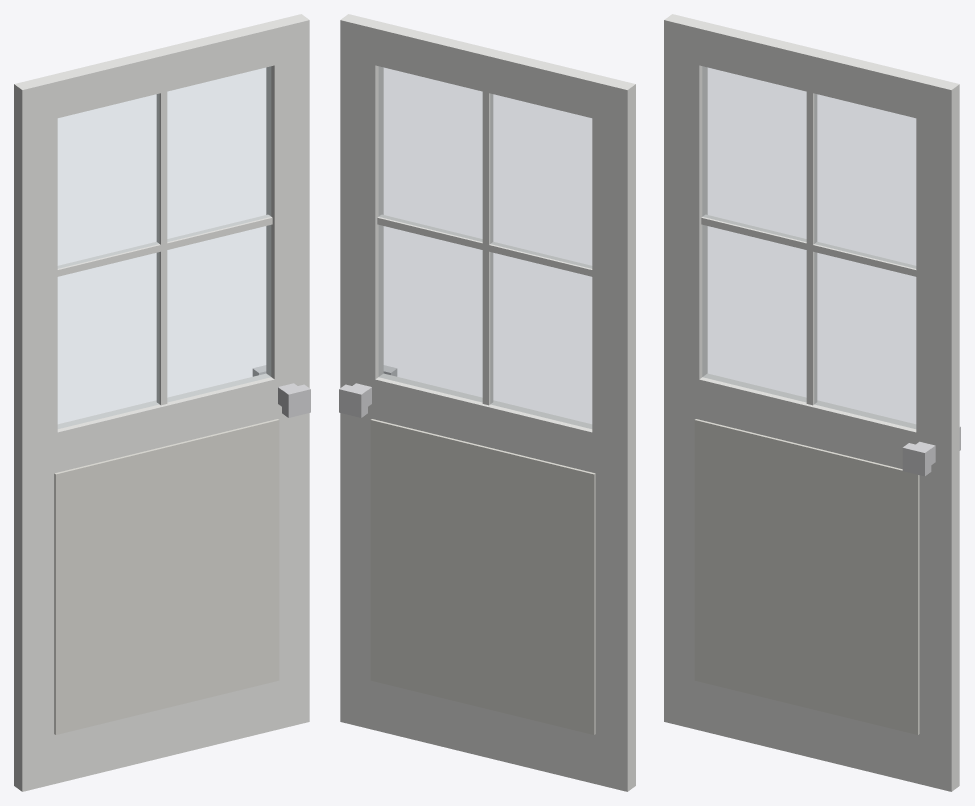
Rendered from mlo_door_half_glass.glb.
The picture shows the model from 3 angles, left to right: view 1: azimuth 30°, elevation 25°; view 2: azimuth 150°, elevation 25°; view 3: azimuth 330°, elevation 25°; orthographic projection.
Visible parts, largest first — view 1: Door_Half_Glass; view 2: Door_Half_Glass; view 3: Door_Half_Glass.
Boxes of the visible parts, x1,y1,x2,y2 form: Door_Half_Glass: (14,14,310,791); Door_Half_Glass: (339,14,635,791); Door_Half_Glass: (664,14,960,791).
Bounding box in the file's own units: 0.9 × 2.1 × 0.195.
